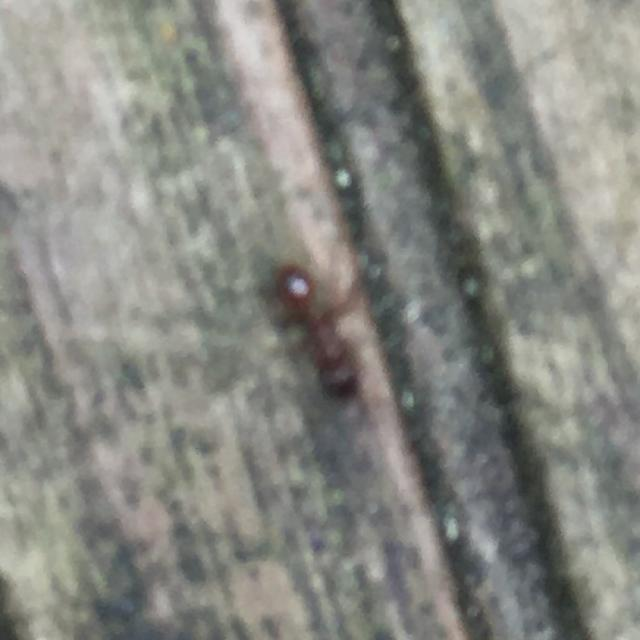Myrmica: (248, 244, 386, 414)
